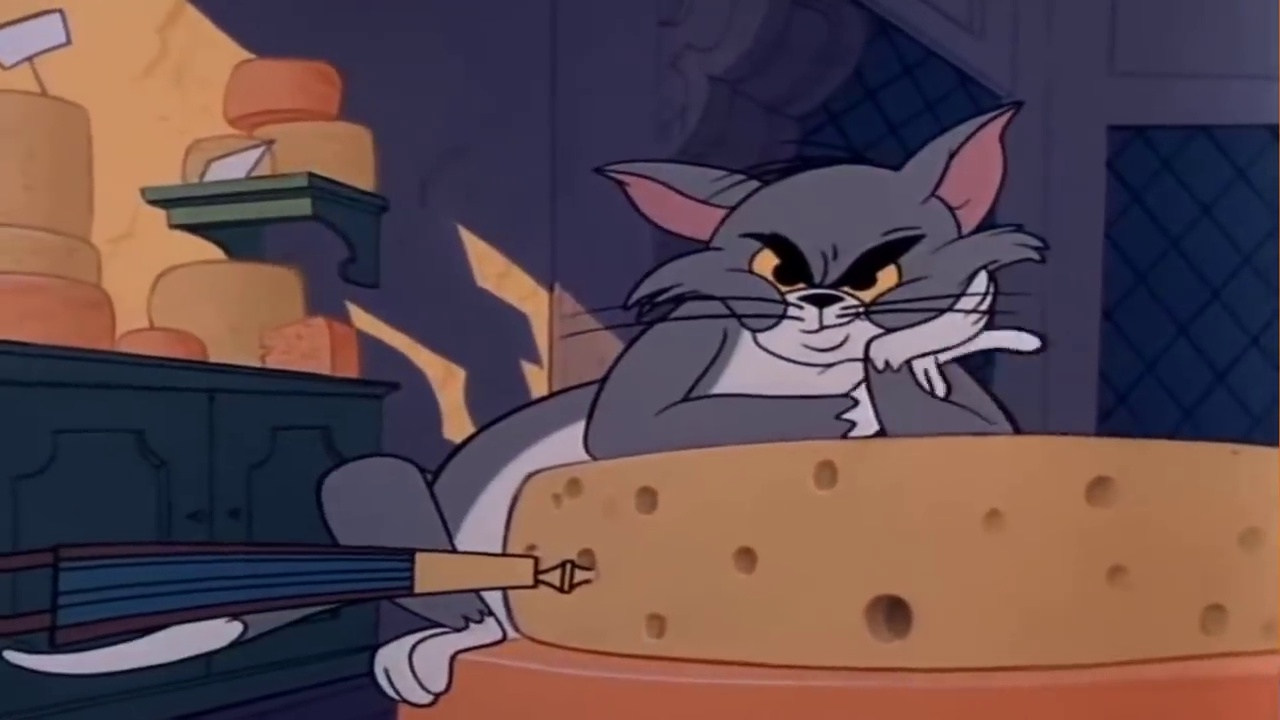face: (729, 212, 931, 362)
